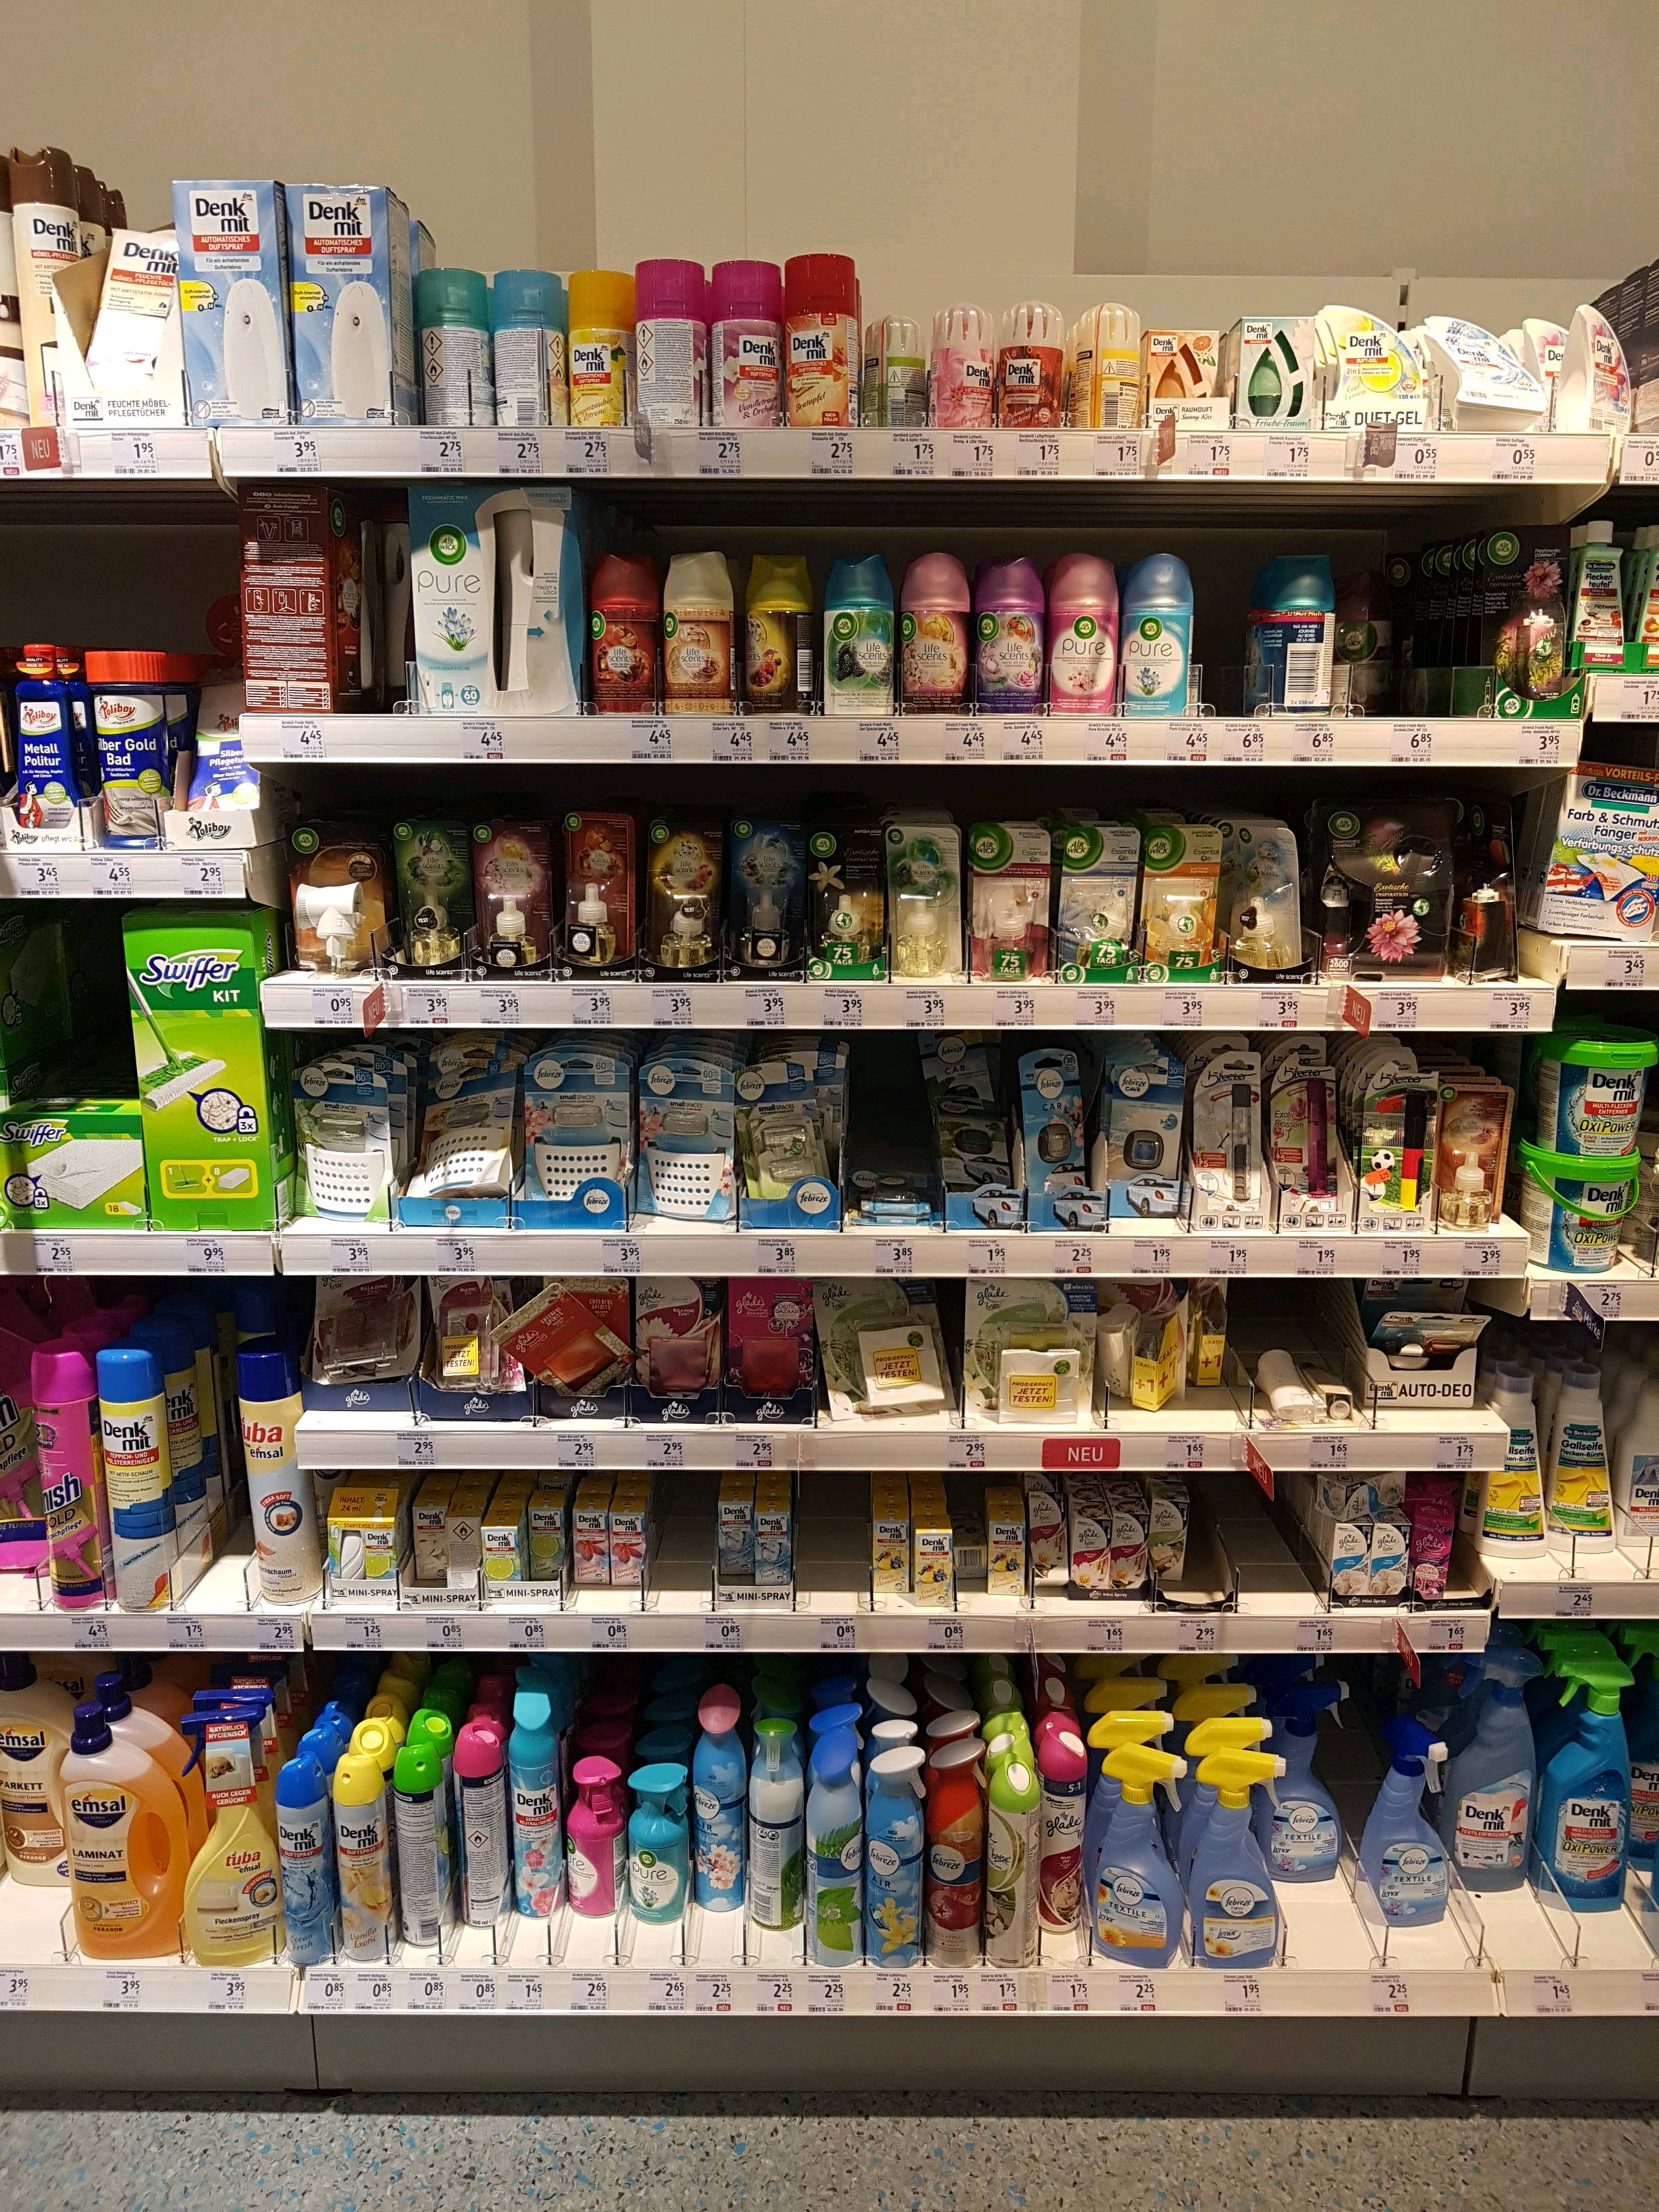Misplacement: (695, 1689, 744, 1970)
Out-of-stock: (793, 1468, 870, 1653)
